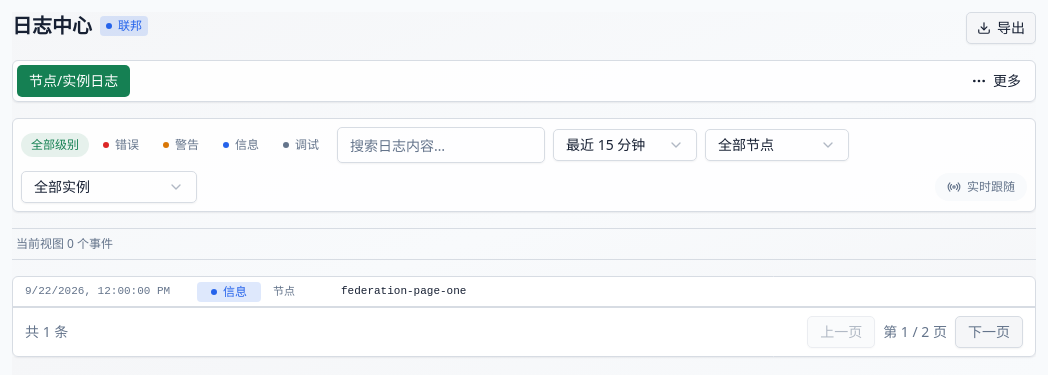
Test: LogsPage × logs-federation（FR-482） › 联邦 next_cursor 驱动下一页且保持完整 coverage
Expected: the text "federation-page-one" is shown, [341, 285, 466, 297]
Click the button "下一页": (989, 332) [955, 316, 1023, 348]
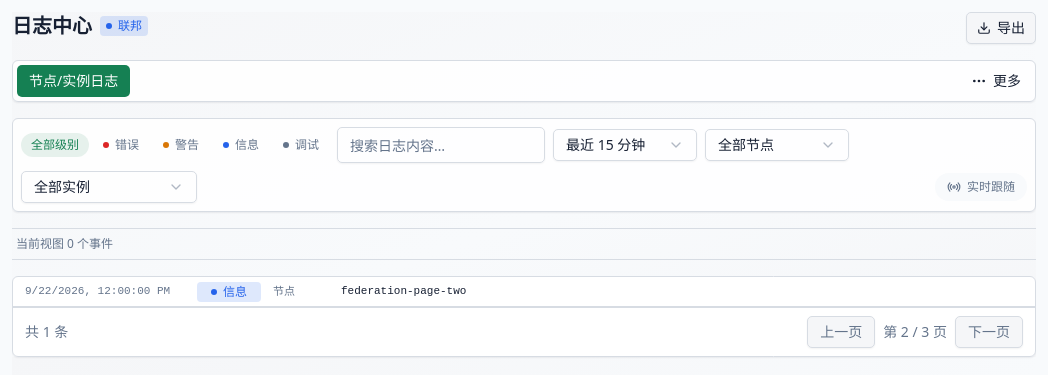
Result: the text "federation-page-two" is shown at [341, 285, 466, 297]
Result: the text "federation-page-one" is gone
